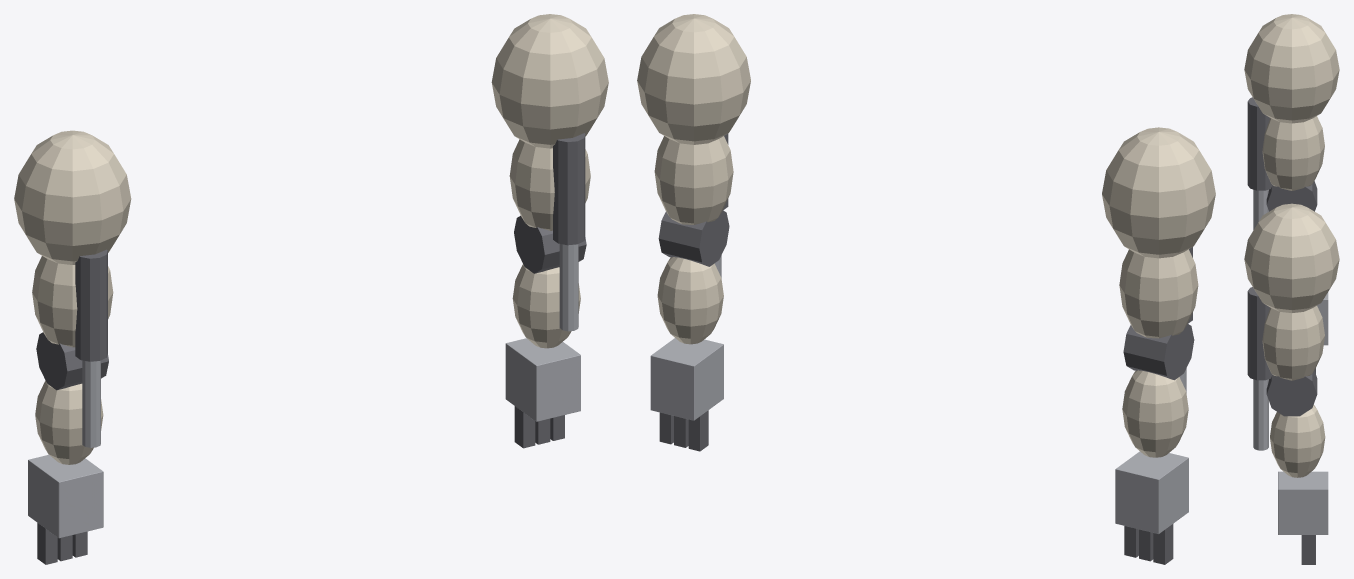
The model's file is sinew-arm.glb.
3 renders of one model, left to right at view 1: azimuth 30°, elevation 25°; view 2: azimuth 150°, elevation 25°; view 3: azimuth 270°, elevation 25°, orthographic. The views are drawn at different scales.
Visible parts, largest first — view 1: delt_l, delt_r, hand_r, hand_l, bicep_l, bicep_r, sleeve_l, forearm_r, sleeve_r, forearm_l, elbow_r, elbow_l (+3 smaller); view 2: delt_r, delt_l, bicep_r, bicep_l, hand_r, hand_l, forearm_r, forearm_l, elbow_r, elbow_l; view 3: delt_l, delt_r, bicep_l, bicep_r, hand_l, forearm_l, elbow_l, sleeve_l, sleeve_r, rod_l, elbow_r, rod_r (+2 smaller).
Part boxes in pixels (x1,y1,x2,y2): delt_l: [491, 14, 608, 148]; delt_r: [14, 130, 131, 264]; hand_r: [28, 454, 103, 538]; hand_l: [505, 338, 580, 421]; bicep_l: [509, 139, 590, 230]; bicep_r: [32, 256, 113, 347]; sleeve_l: [553, 133, 585, 245]; forearm_r: [35, 380, 103, 464]; sleeve_r: [75, 249, 107, 361]; forearm_l: [512, 264, 580, 348]; elbow_r: [36, 332, 108, 390]; elbow_l: [514, 215, 586, 273]; delt_r: [1102, 127, 1215, 258]; delt_l: [637, 14, 750, 144]; bicep_r: [1119, 249, 1198, 338]; bicep_l: [654, 136, 733, 224]; hand_r: [1115, 451, 1188, 534]; hand_l: [650, 338, 723, 420]; forearm_r: [1122, 370, 1188, 457]; forearm_l: [657, 257, 723, 344]; elbow_r: [1123, 323, 1194, 380]; elbow_l: [658, 210, 729, 266]; delt_l: [1244, 203, 1339, 312]; delt_r: [1244, 14, 1339, 123]; bicep_l: [1262, 306, 1324, 380]; bicep_r: [1262, 116, 1324, 190]; hand_l: [1278, 471, 1328, 534]; forearm_l: [1270, 405, 1325, 477]; elbow_l: [1266, 370, 1317, 416]; sleeve_l: [1247, 287, 1272, 380]; sleeve_r: [1247, 97, 1272, 190]; rod_l: [1253, 379, 1268, 450]; elbow_r: [1266, 181, 1317, 211]; rod_r: [1253, 189, 1268, 229].
Bounding box in the file's own units: 0.97 × 0.687 × 0.17.
